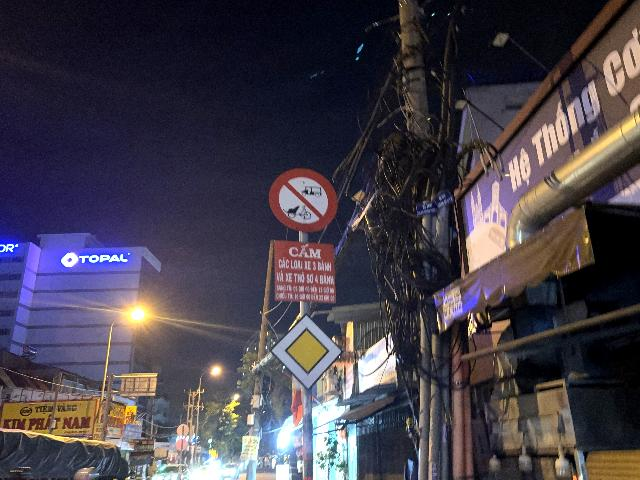bat-dau-duong-uu-tien: (270, 313, 344, 392)
cam-xe-3-banh-xe-tho-so-4-banh: (268, 167, 338, 233)
